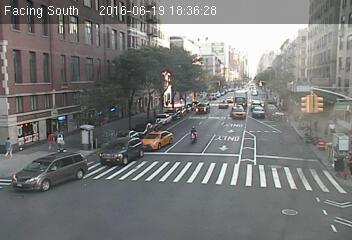neg: (185, 124, 200, 144), (318, 135, 331, 152), (276, 95, 288, 112), (305, 128, 314, 139)
pos: (54, 129, 70, 151), (41, 132, 57, 152), (1, 136, 15, 156)
